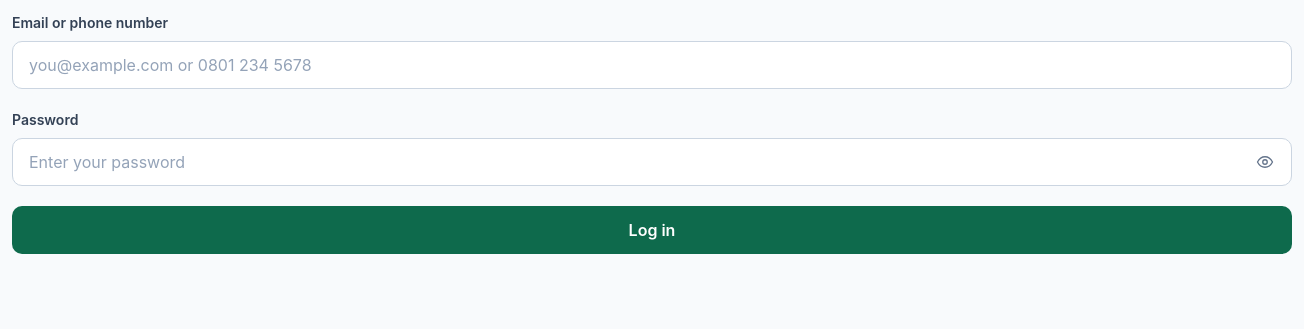
Test: <LoginForm /> › shows required-field errors and does not submit an empty form
The width and height of the screenshot is (1304, 329).
Click the button "Log in" at (652, 230), box [12, 206, 1292, 254]
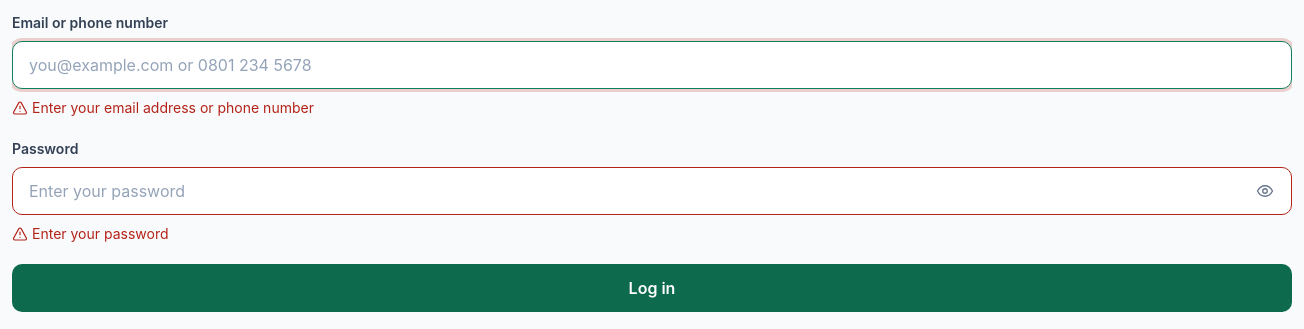
Result: the text "Enter your email address or phone number" is shown at [12, 99, 314, 116]
Result: the text "Enter your password" is shown at [12, 225, 168, 242]
